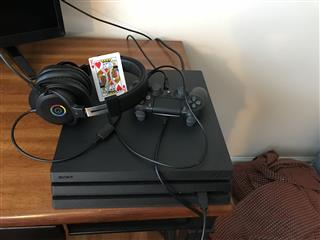KingOfHearts: (87, 51, 127, 102)
